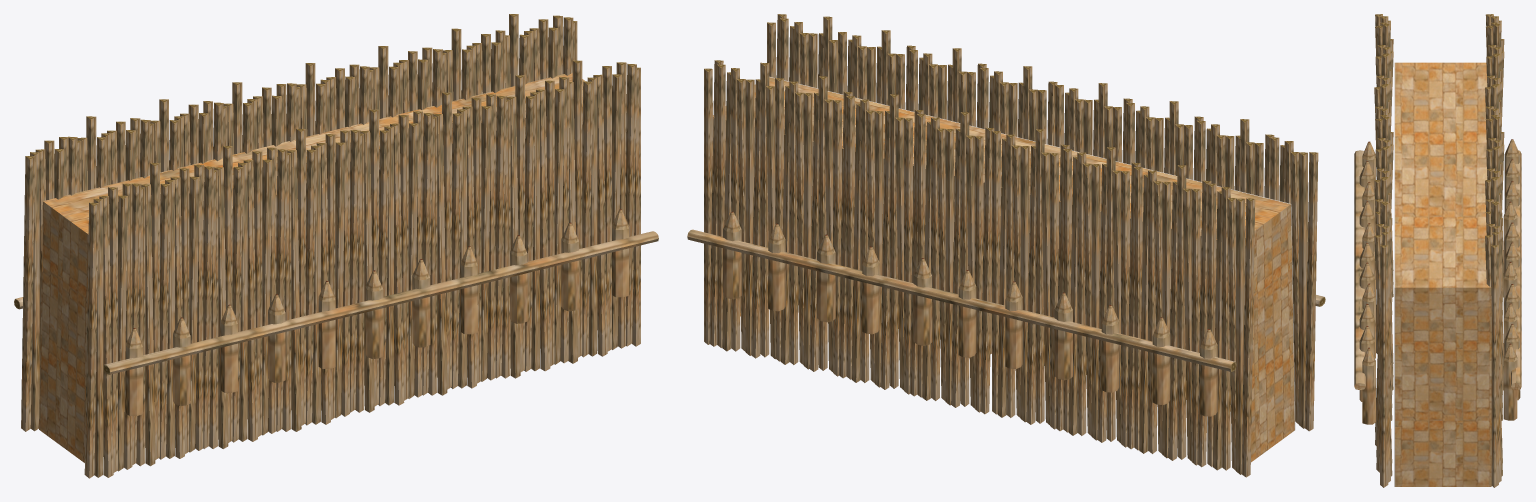
File: wall_medium.dae
The picture shows the model from 3 angles, left to right: view 1: azimuth 30°, elevation 25°; view 2: azimuth 150°, elevation 25°; view 3: azimuth 270°, elevation 25°; orthographic projection. The views are drawn at different scales.
Visible parts, largest first — view 1: wall_med; view 2: wall_med; view 3: wall_med.
Part boxes in pixels (x1,y1,x2,y2): wall_med: (14, 14, 658, 478); wall_med: (687, 14, 1325, 477); wall_med: (1354, 14, 1521, 487).
Size of the model in its own units: 27.36 by 8.26 by 14.45.
